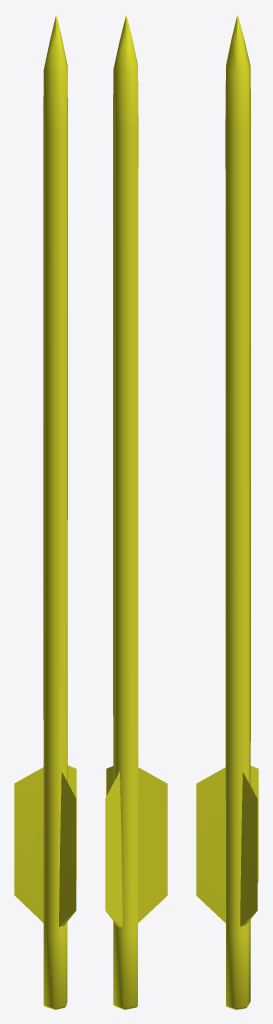
The model's file is model_arrow_crossbow_04.FBX.
The picture shows the model from 3 angles, left to right: view 1: azimuth 90°, elevation 25°; view 2: azimuth 150°, elevation 25°; view 3: azimuth 330°, elevation 25°; orthographic projection.
Parts seen in each view (by area): view 1: model_arrow_crossbow_04; view 2: model_arrow_crossbow_04; view 3: model_arrow_crossbow_04.
Boxes of the visible parts, bbox=[...] form: model_arrow_crossbow_04: bbox=[14, 14, 76, 1009]; model_arrow_crossbow_04: bbox=[105, 14, 167, 1009]; model_arrow_crossbow_04: bbox=[196, 14, 258, 1009].
Size of the model in its own units: 2.95 by 45.41 by 2.59.
